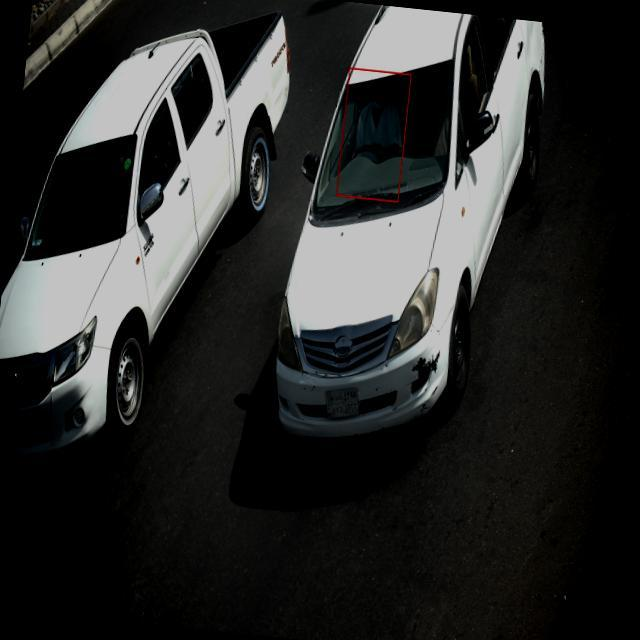windshield: (302, 57, 458, 236), (17, 128, 138, 266)
